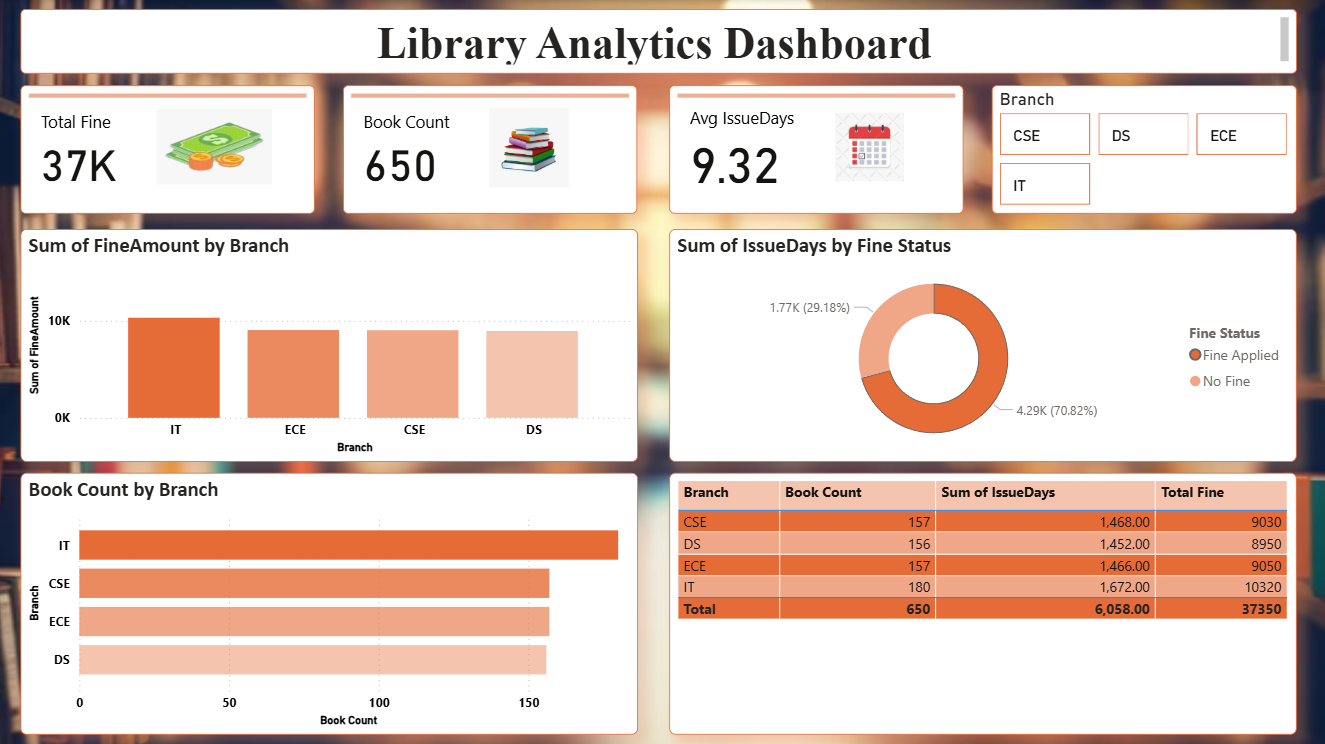

What the dashboard file says about the page in this screenshot:
{"tool":"powerbi","page":{"name":"Page 1","canvas":[1280,720],"ordinal":0},"visuals":[{"type":"cardVisual","fields":{"Data":["Dirty_Library_Analytics_650.Total Fine"]},"box":[21.6,83.7,284.2,124.1],"z":0},{"type":"columnChart","fields":{"Category":["Dirty_Library_Analytics_650.Branch"],"Y":["Sum(Dirty_Library_Analytics_650.FineAmount)"]},"box":[21.6,222.2,595.9,225.1],"z":1000},{"type":"barChart","fields":{"Category":["Dirty_Library_Analytics_650.Branch"],"Y":["Dirty_Library_Analytics_650.Book Count"]},"box":[21.6,457.4,595.9,252.5],"z":2000},{"type":"donutChart","fields":{"Category":["Dirty_Library_Analytics_650.Fine Status"],"Y":["Sum(Dirty_Library_Analytics_650.IssueDays)"]},"box":[647.8,222.2,606,225.1],"z":3000},{"type":"tableEx","fields":{"Values":["Dirty_Library_Analytics_650.Branch","Dirty_Library_Analytics_650.Book Count","Sum(Dirty_Library_Analytics_650.IssueDays)","Dirty_Library_Analytics_650.Total Fine"]},"box":[647.8,457.4,606,252.5],"z":4000},{"type":"textbox","box":[21.6,10.1,1232.1,62],"z":5000},{"type":"cardVisual","fields":{"Data":["Dirty_Library_Analytics_650.Book Count"]},"box":[333.3,83.7,284.2,124.1],"z":6000},{"type":"cardVisual","fields":{"Data":["Dirty_Library_Analytics_650.Avg IssueDays"]},"box":[647.8,83.7,284.2,124.1],"z":7000},{"type":"image","box":[750.2,105.3,181.8,76.5],"z":8000},{"type":"image","box":[148.6,101,121.2,82.2],"z":9000},{"type":"image","box":[408.3,99.6,209.2,86.6],"z":10000},{"type":"advancedSlicerVisual","fields":{"Values":["Dirty_Library_Analytics_650.Branch"]},"box":[959.1,83.2,294.4,124.3],"z":11000}]}

Visuals, with their boxes in screenshot pixels (x1, y1, x2, y2), scaled from the page's 1280x720 canvas onto the 1325x744 screenshot:
cardVisual - Dirty_Library_Analytics_650.Total Fine: [left=22, top=86, right=317, bottom=215]
columnChart - Dirty_Library_Analytics_650.Branch x Sum(Dirty_Library_Analytics_650.FineAmount): [left=22, top=230, right=639, bottom=462]
barChart - Dirty_Library_Analytics_650.Branch x Dirty_Library_Analytics_650.Book Count: [left=22, top=473, right=639, bottom=734]
donutChart - Dirty_Library_Analytics_650.Fine Status x Sum(Dirty_Library_Analytics_650.IssueDays): [left=671, top=230, right=1298, bottom=462]
tableEx - Dirty_Library_Analytics_650.Branch x Dirty_Library_Analytics_650.Book Count: [left=671, top=473, right=1298, bottom=734]
textbox: [left=22, top=10, right=1298, bottom=75]
cardVisual - Dirty_Library_Analytics_650.Book Count: [left=345, top=86, right=639, bottom=215]
cardVisual - Dirty_Library_Analytics_650.Avg IssueDays: [left=671, top=86, right=965, bottom=215]
image: [left=777, top=109, right=965, bottom=188]
image: [left=154, top=104, right=279, bottom=189]
image: [left=423, top=103, right=639, bottom=192]
advancedSlicerVisual - Dirty_Library_Analytics_650.Branch: [left=993, top=86, right=1298, bottom=214]
